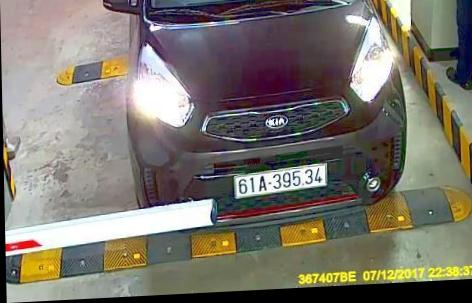License_Plate: (232, 165, 329, 196)
